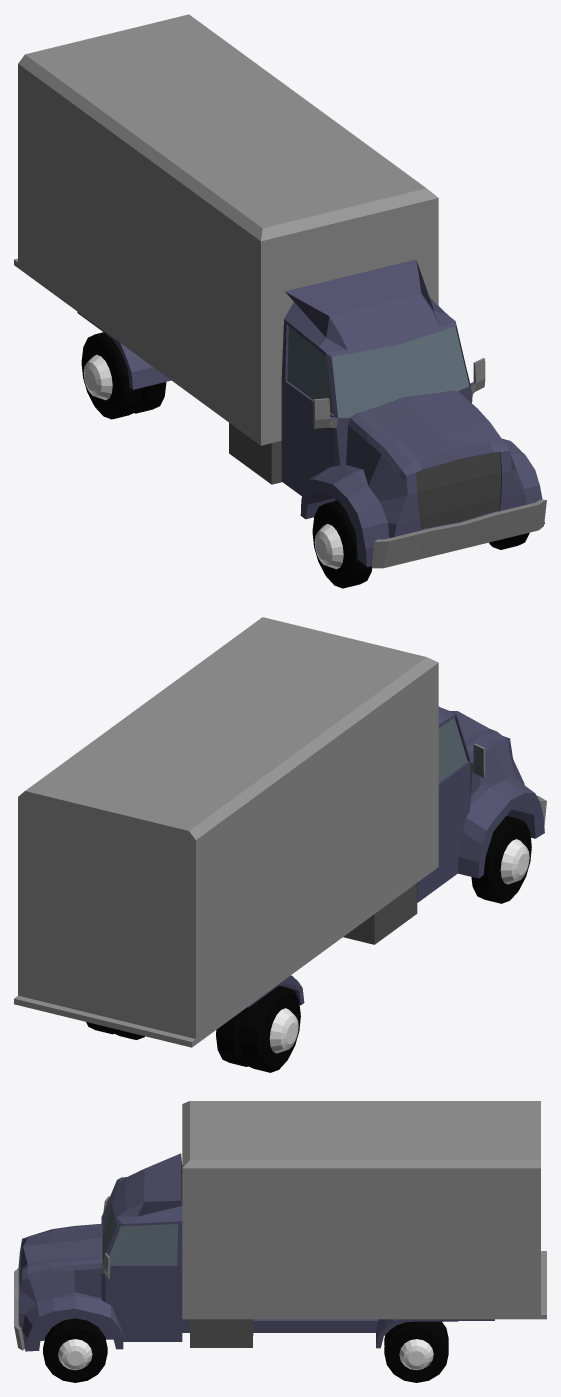
Rendered from lowpolyTruck.fbx.
The picture shows the model from 3 angles, top to bottom: view 1: azimuth 30°, elevation 25°; view 2: azimuth 150°, elevation 25°; view 3: azimuth 270°, elevation 25°; orthographic projection. The views are drawn at different scales.
Visible parts, largest first — view 1: Cube, Circle.003, Circle.004; view 2: Cube, Circle.003, Circle.004, Circle.002; view 3: Cube, Circle.005, Circle.
Boxes of the visible parts, left/top/right/bottom form: Cube: left=14, top=14, right=546, bottom=568; Circle.003: left=81, top=332, right=142, bottom=419; Circle.004: left=312, top=500, right=371, bottom=588; Cube: left=14, top=617, right=546, bottom=1047; Circle.003: left=240, top=985, right=300, bottom=1072; Circle.004: left=471, top=815, right=531, bottom=903; Circle.002: left=216, top=1007, right=247, bottom=1066; Cube: left=14, top=1101, right=546, bottom=1351; Circle.005: left=43, top=1318, right=107, bottom=1382; Circle: left=384, top=1321, right=448, bottom=1382.
Bounding box in the file's own units: 266 × 378 × 827.
